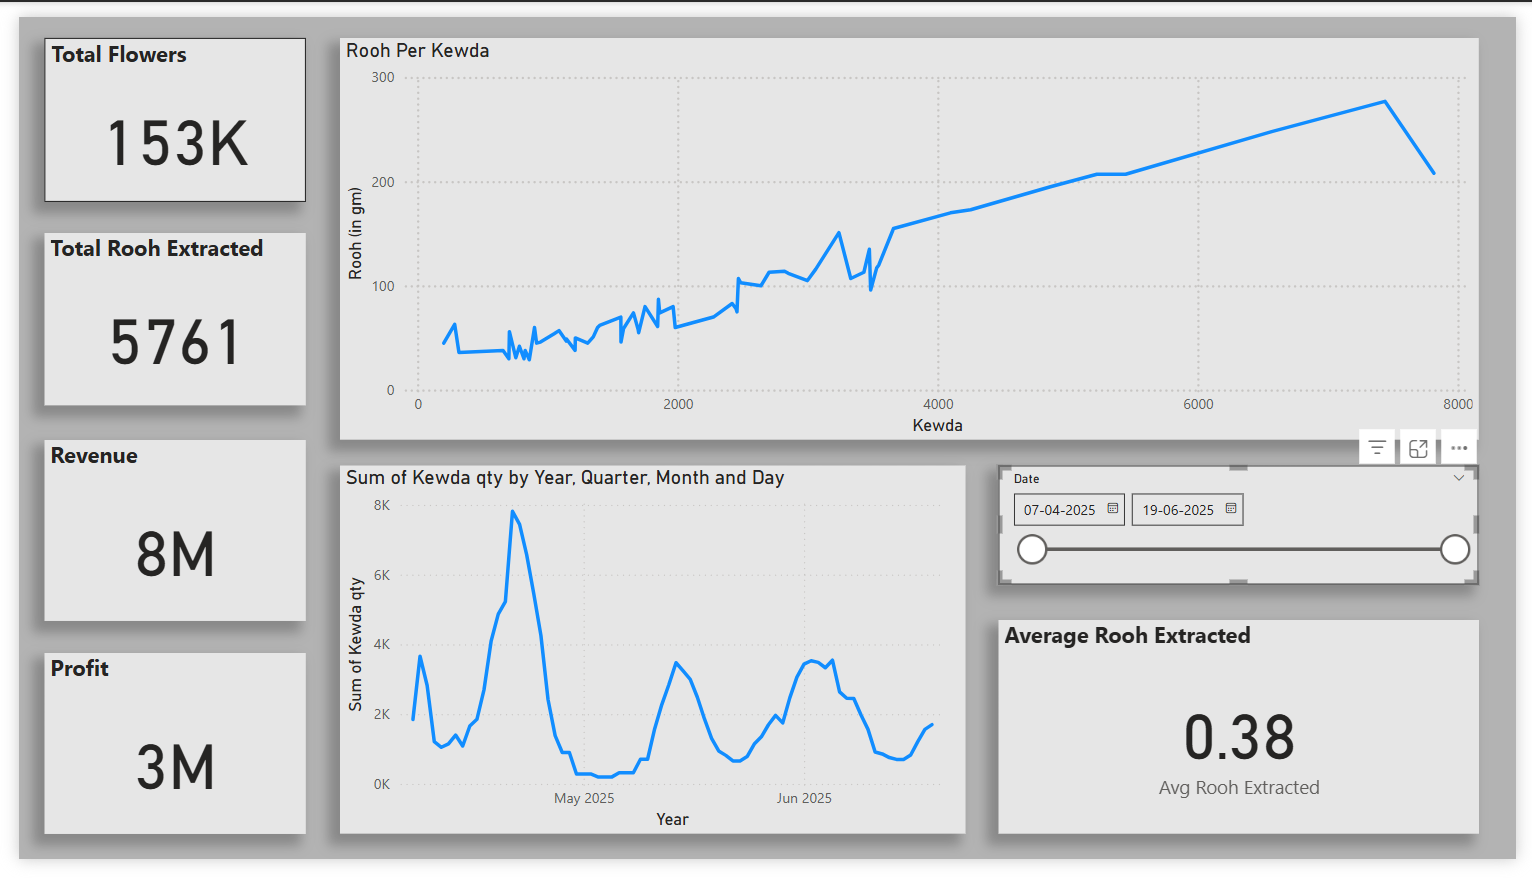

This screenshot's page, from the dashboard's own definition file:
{"tool":"powerbi","page":{"name":"Page 1","canvas":[1280,720],"ordinal":0},"visuals":[{"type":"card","title":"Total Flowers","fields":{"Values":["BaseMeasurement.Total_kewda_qty"]},"box":[21.2,17.5,223.6,139.9],"z":0},{"type":"card","title":"Total Rooh Extracted","fields":{"Values":["BaseMeasurement.Rooh extracted"]},"box":[21.2,184.9,223.6,147.4],"z":1000},{"type":"card","title":"Revenue","fields":{"Values":["BaseMeasurement.Revenue"]},"box":[21.2,361,223.6,154.9],"z":2000},{"type":"card","title":"Profit","fields":{"Values":["BaseMeasurement.Profit"]},"box":[21.2,543.4,223.6,154.9],"z":3000},{"type":"lineChart","title":"Rooh Per Kewda","fields":{"Category":["Weather Data.Kewda qty"],"Y":["Sum(Weather Data.Rooh extracted )"]},"box":[274.8,17.5,973.1,343.5],"z":4000},{"type":"lineChart","fields":{"Category":["Kewda Data.Date.Variation.Date Hierarchy.Year","Kewda Data.Date.Variation.Date Hierarchy.Quarter","Kewda Data.Date.Variation.Date Hierarchy.Month","Kewda Data.Date.Variation.Date Hierarchy.Day"],"Y":["Sum(Kewda Data.Kewda qty)"]},"box":[274.8,383.5,534.7,314.8],"z":5000},{"type":"slicer","fields":{"Values":["Kewda Data.Date"]},"box":[837,383.5,411,101.2],"z":6000},{"type":"card","title":"Average Rooh Extracted","fields":{"Values":["Kewda Data.Avg Rooh Extracted"]},"box":[837,515.9,411,182.4],"z":6001}]}

Visuals, with their boxes in screenshot pixels (x1, y1, x2, y2), scaled from the page's 1280x720 canvas onto the 1532x878 screenshot:
"Total Flowers" card: <bbox>25, 21, 293, 192</bbox>
"Total Rooh Extracted" card: <bbox>25, 225, 293, 405</bbox>
"Revenue" card: <bbox>25, 440, 293, 629</bbox>
"Profit" card: <bbox>25, 663, 293, 852</bbox>
"Rooh Per Kewda" lineChart: <bbox>329, 21, 1494, 440</bbox>
lineChart - Kewda Data.Date.Variation.Date Hierarchy.Year x Kewda Data.Date.Variation.Date Hierarchy.Quarter: <bbox>329, 468, 969, 852</bbox>
slicer - Kewda Data.Date: <bbox>1002, 468, 1494, 591</bbox>
"Average Rooh Extracted" card: <bbox>1002, 629, 1494, 852</bbox>
